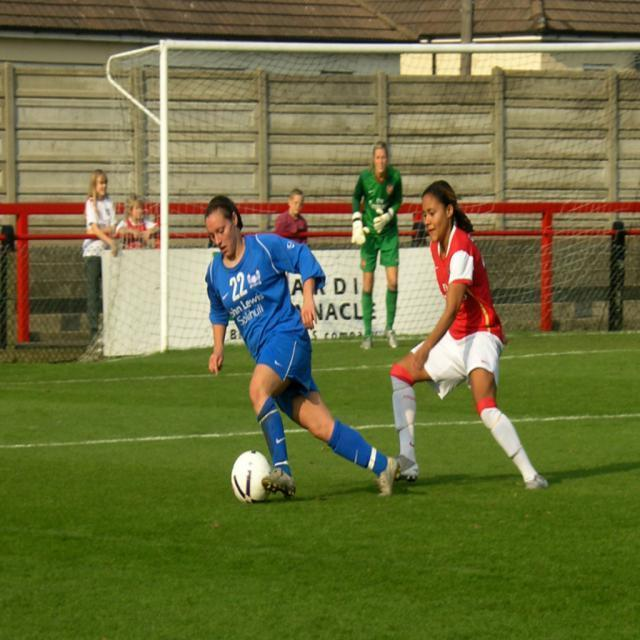ball: (232, 450, 271, 505)
